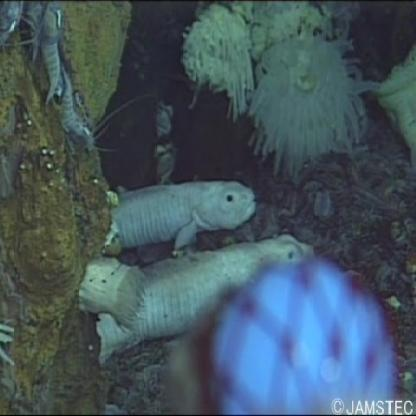Bio: (77, 176, 324, 365), (243, 22, 385, 174), (1, 1, 118, 158)
